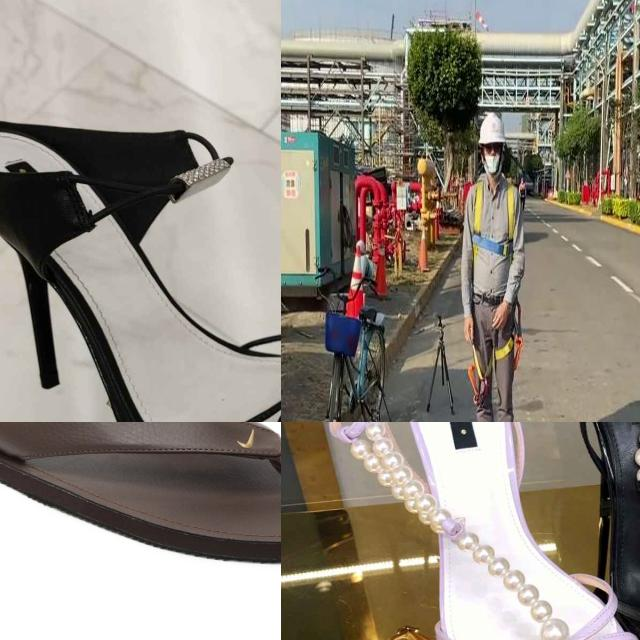Harness: (468, 302, 524, 406), (474, 181, 517, 258)
Sandals: (0, 85, 281, 422), (306, 422, 640, 640), (0, 422, 281, 568), (567, 422, 640, 640)
